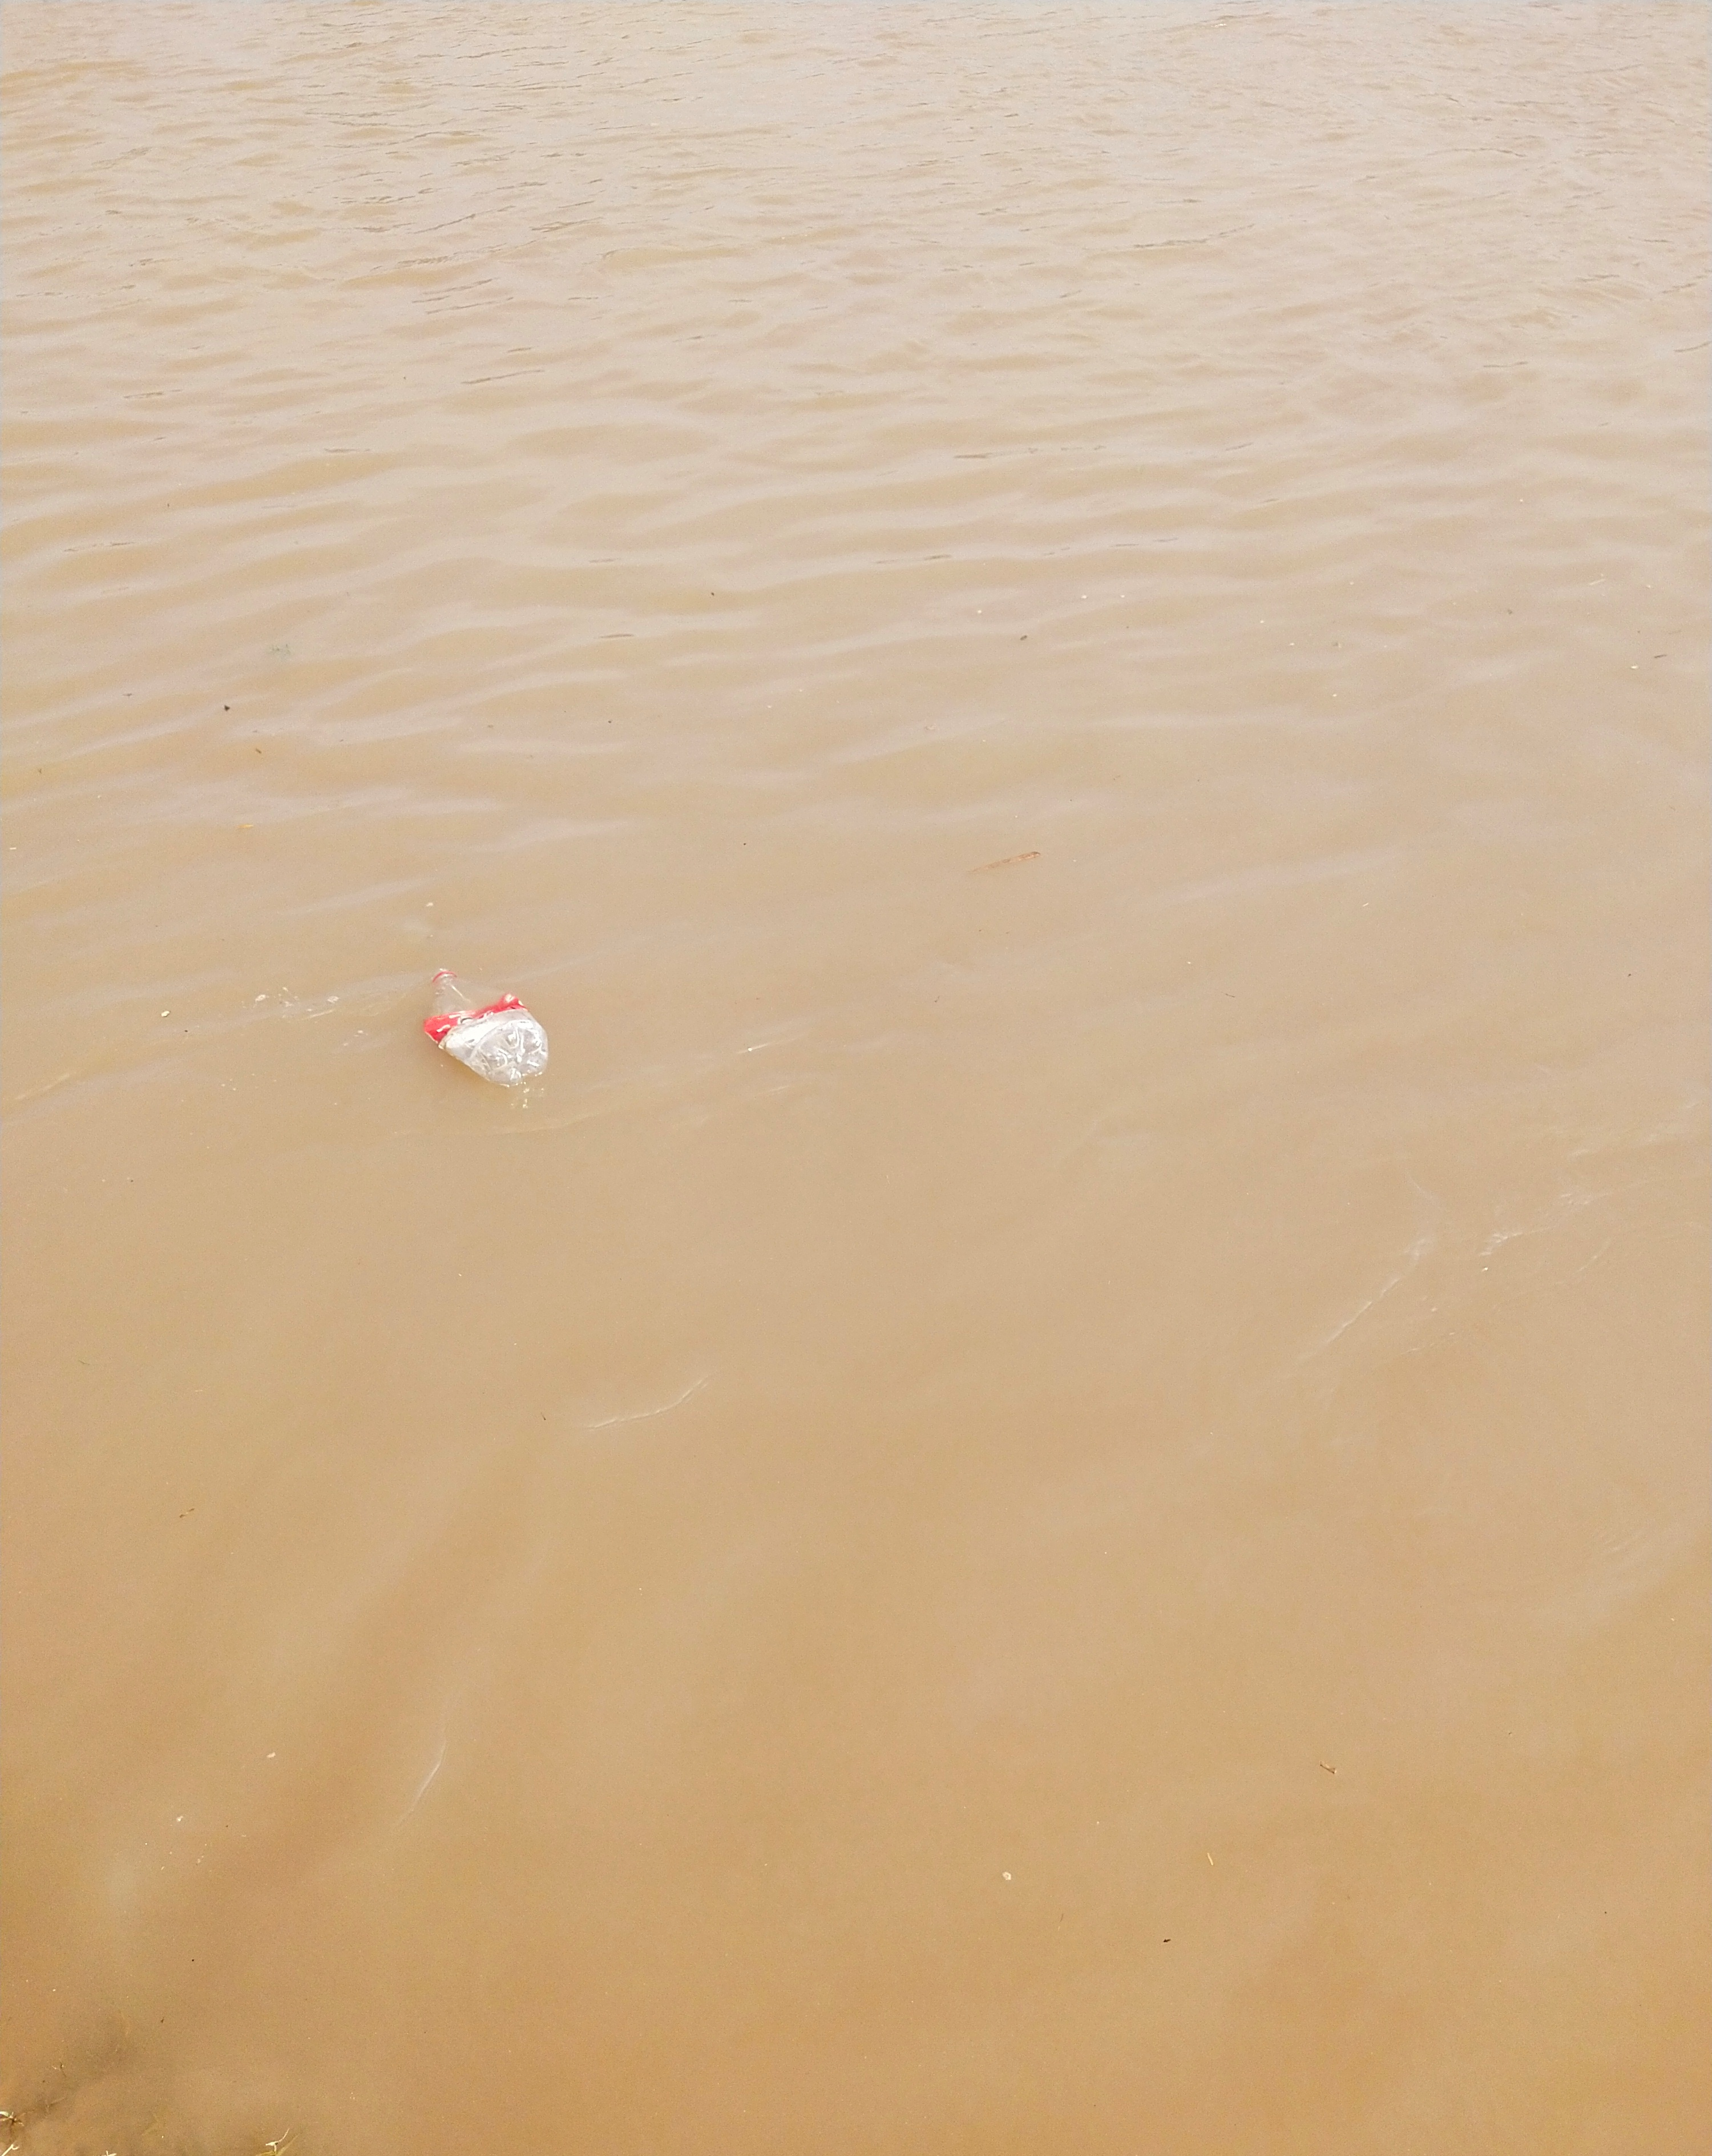Plastic Bottle: (427, 966, 546, 1087)
